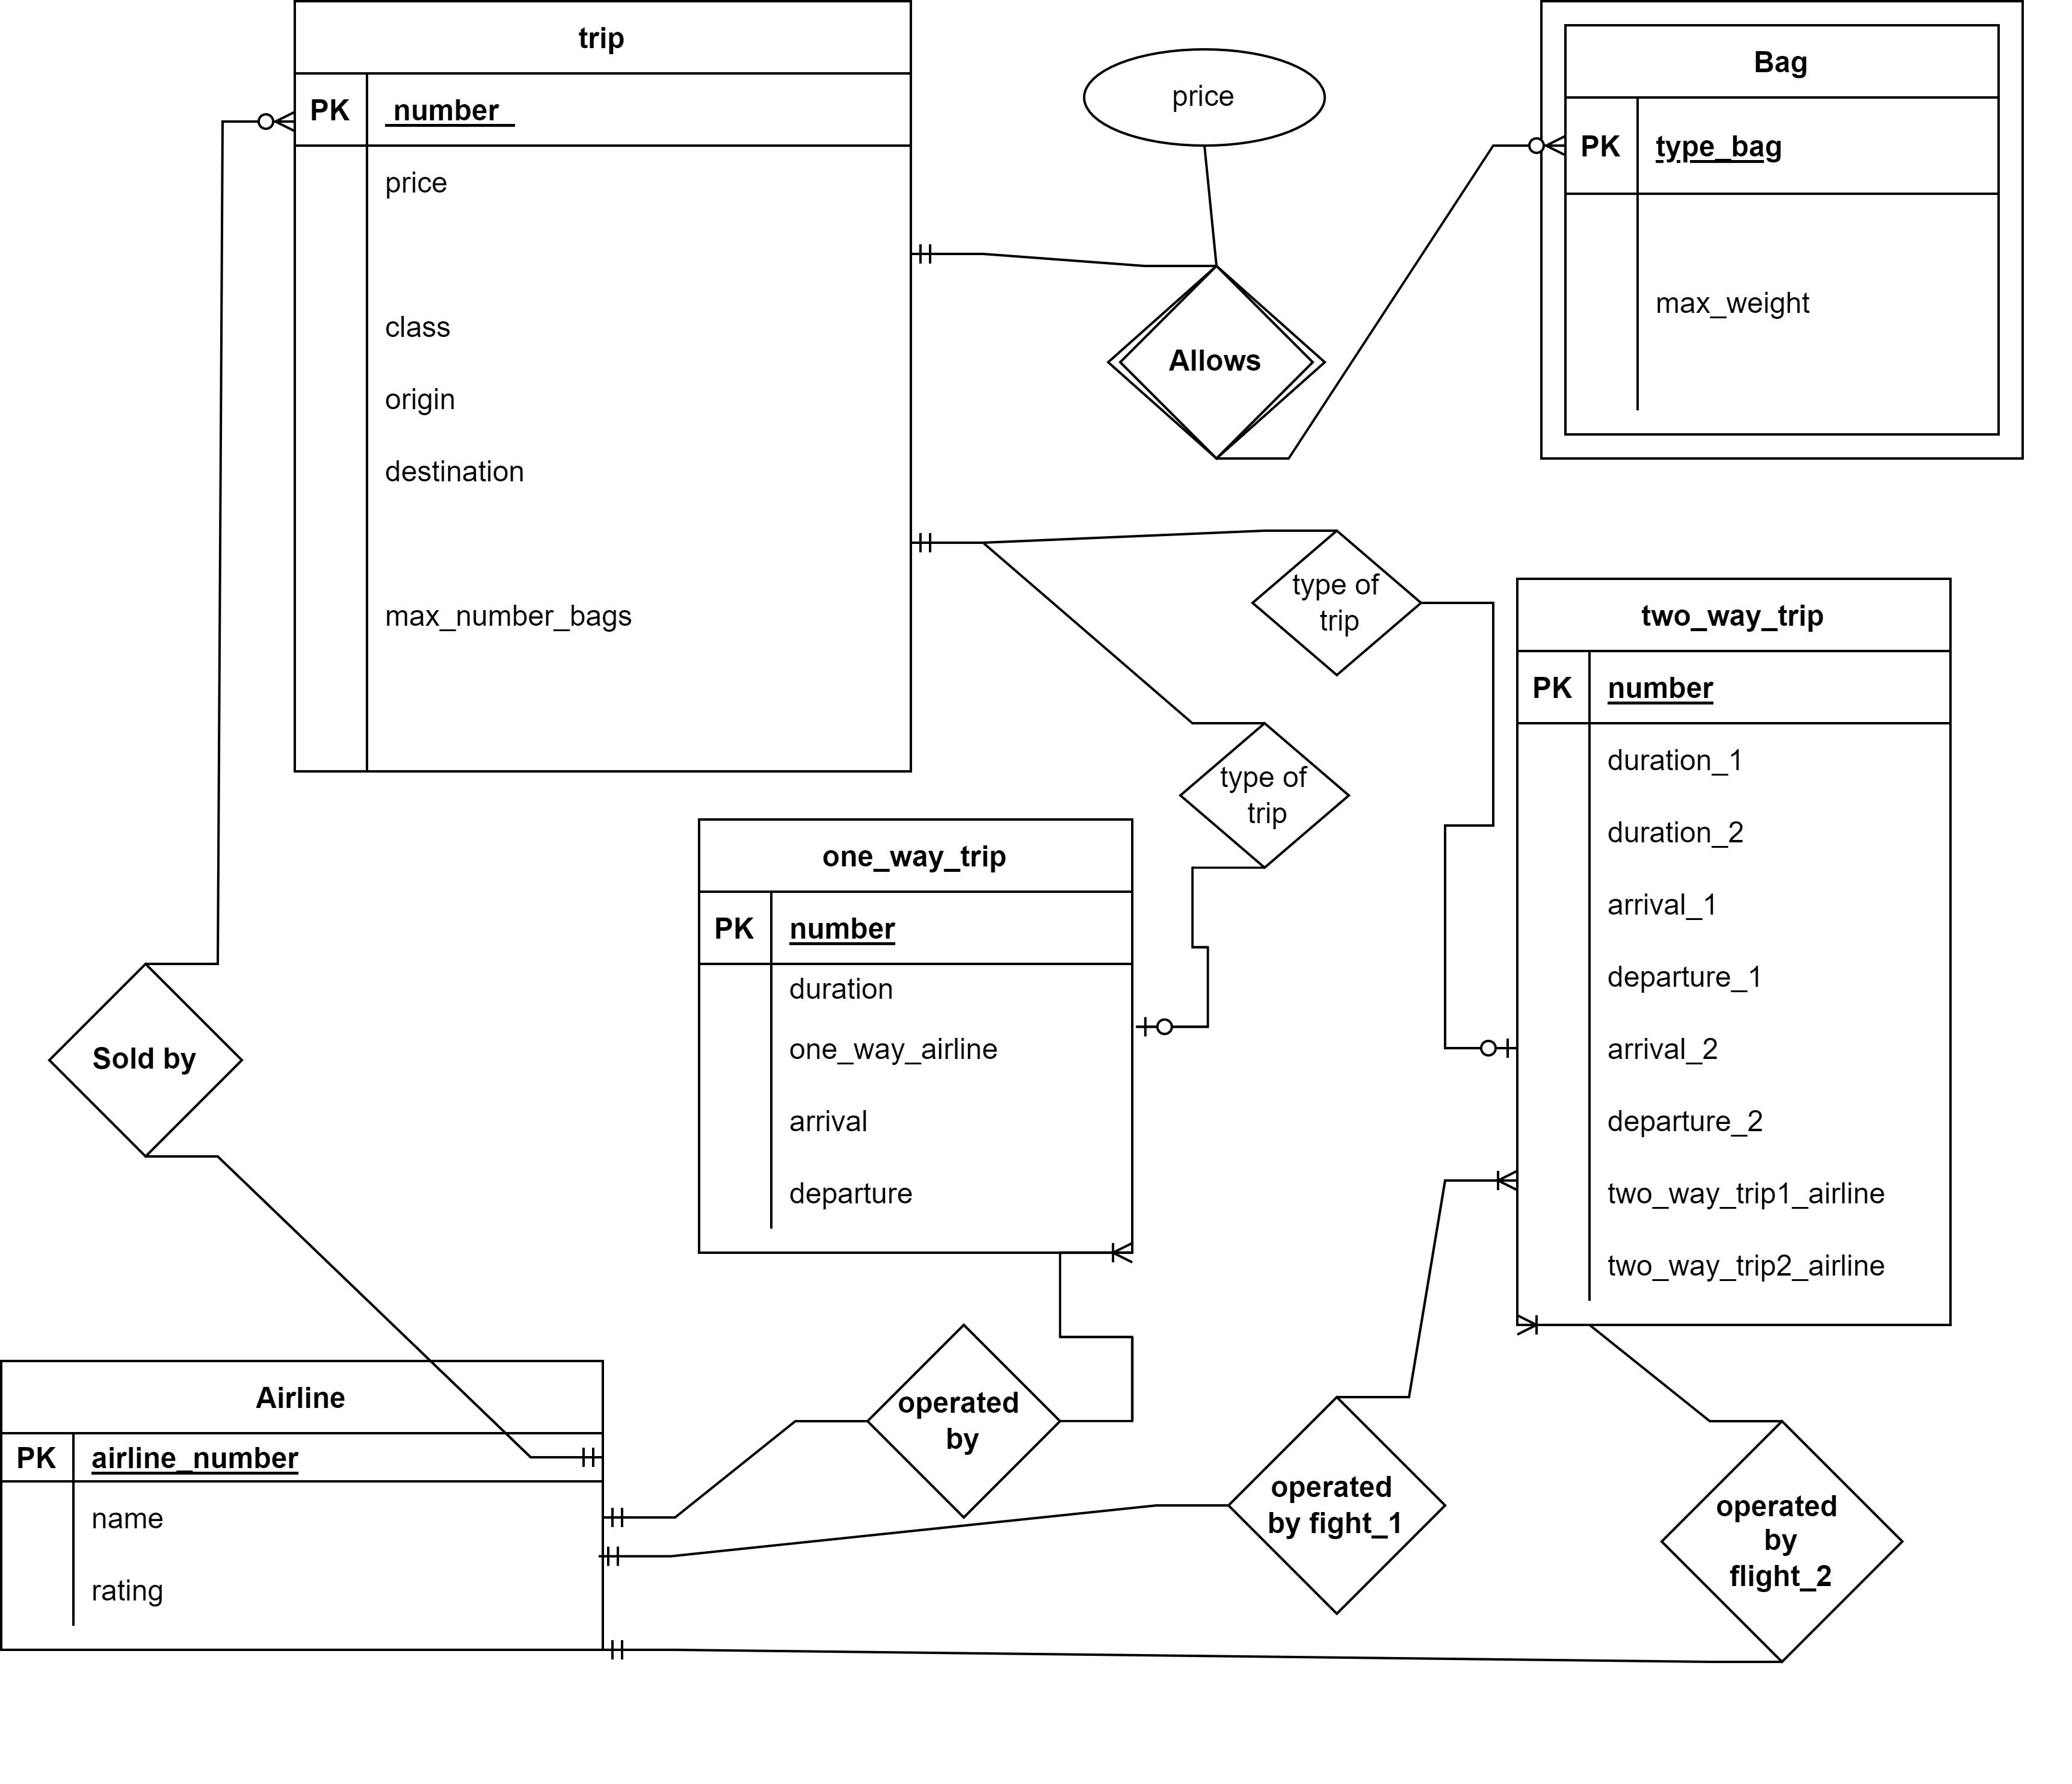attribute: (1084, 49, 1327, 146)
entity: (296, 0, 916, 776), (1510, 573, 1952, 1331), (689, 818, 1138, 1260), (0, 1359, 606, 1655)
relationship: (1658, 1423, 1899, 1655), (1223, 1398, 1447, 1611), (49, 968, 240, 1158), (867, 1326, 1055, 1518), (1254, 532, 1422, 680), (1184, 726, 1350, 866)
weakentity: (1533, 0, 2028, 464)
weakrelationship: (1106, 264, 1327, 457)
